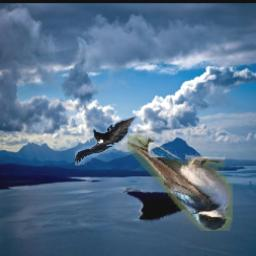Crow: (75, 118, 138, 167)
Swallow: (127, 132, 233, 231)
